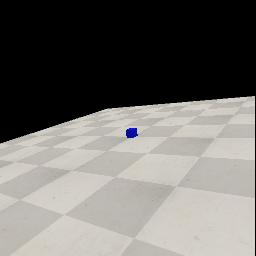box: (126, 128, 138, 138)
